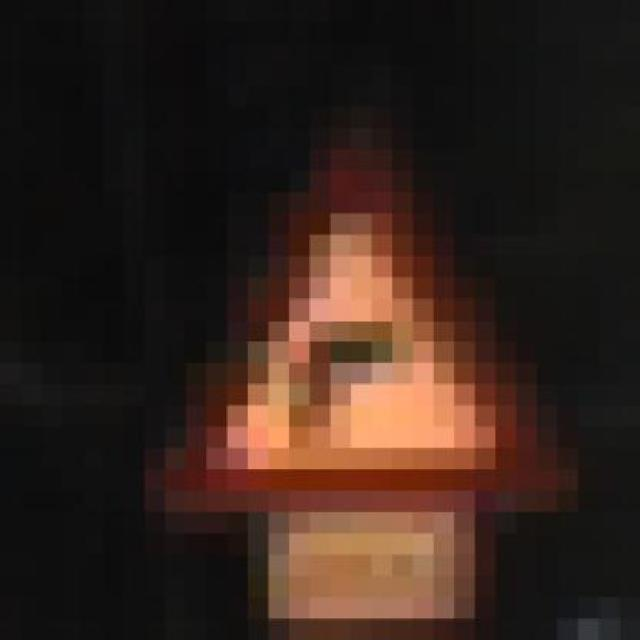Dangerous Rright Curve Ahead: (144, 128, 598, 534)
